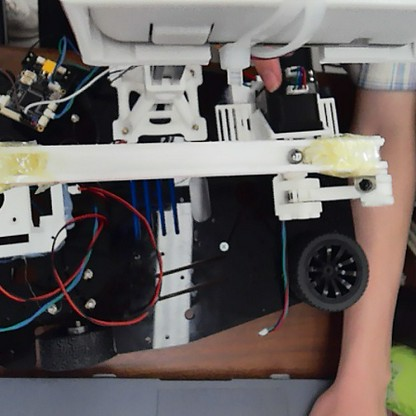ironball: (284, 145, 304, 165)
